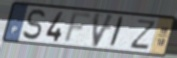4: (44, 10, 65, 43)
F: (61, 11, 94, 46)
I: (108, 15, 126, 49)
S: (21, 8, 47, 41)
V: (91, 11, 117, 49)
Z: (128, 18, 159, 51)
